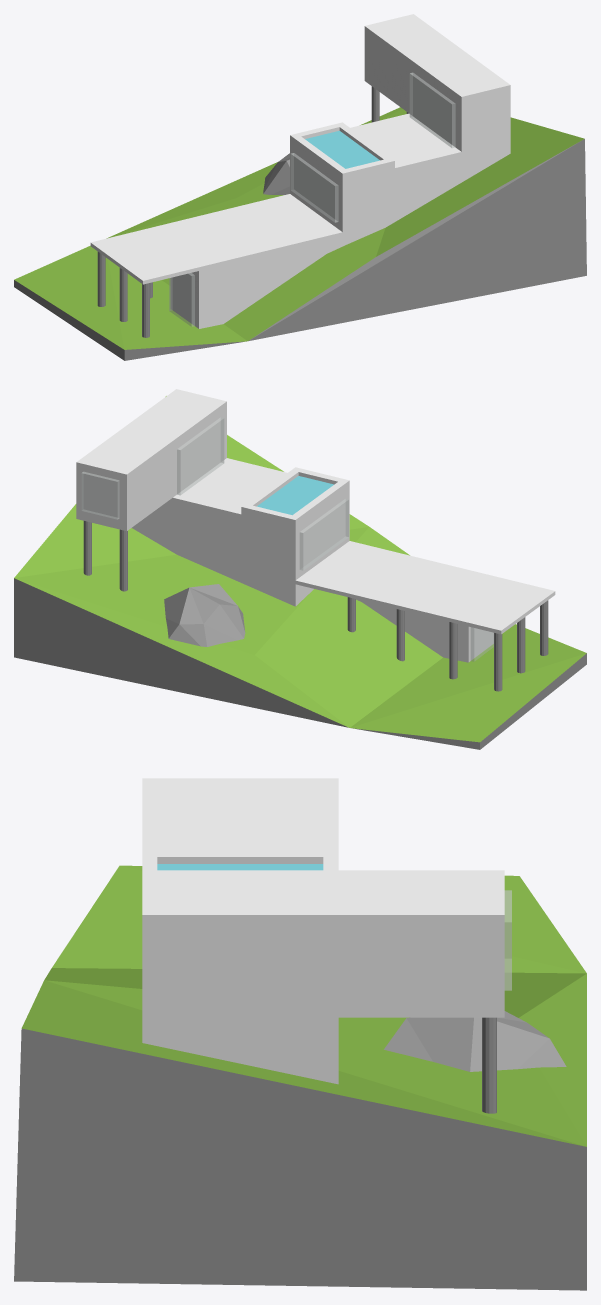
File: villa.glb
3 views of the same model, one above another, from view 1: azimuth 30°, elevation 25°; view 2: azimuth 150°, elevation 25°; view 3: azimuth 270°, elevation 25° (orthographic). The views are drawn at different scales.
Visible parts, largest first — view 1: Node; view 2: Node; view 3: Node.
Part boxes in pixels (box(x1,y1,x2,y2)): Node: box(14, 14, 586, 360); Node: box(14, 389, 586, 749); Node: box(14, 778, 586, 1290).
Bounding box in the file's own units: 1.25 × 0.4981 × 0.7592.
